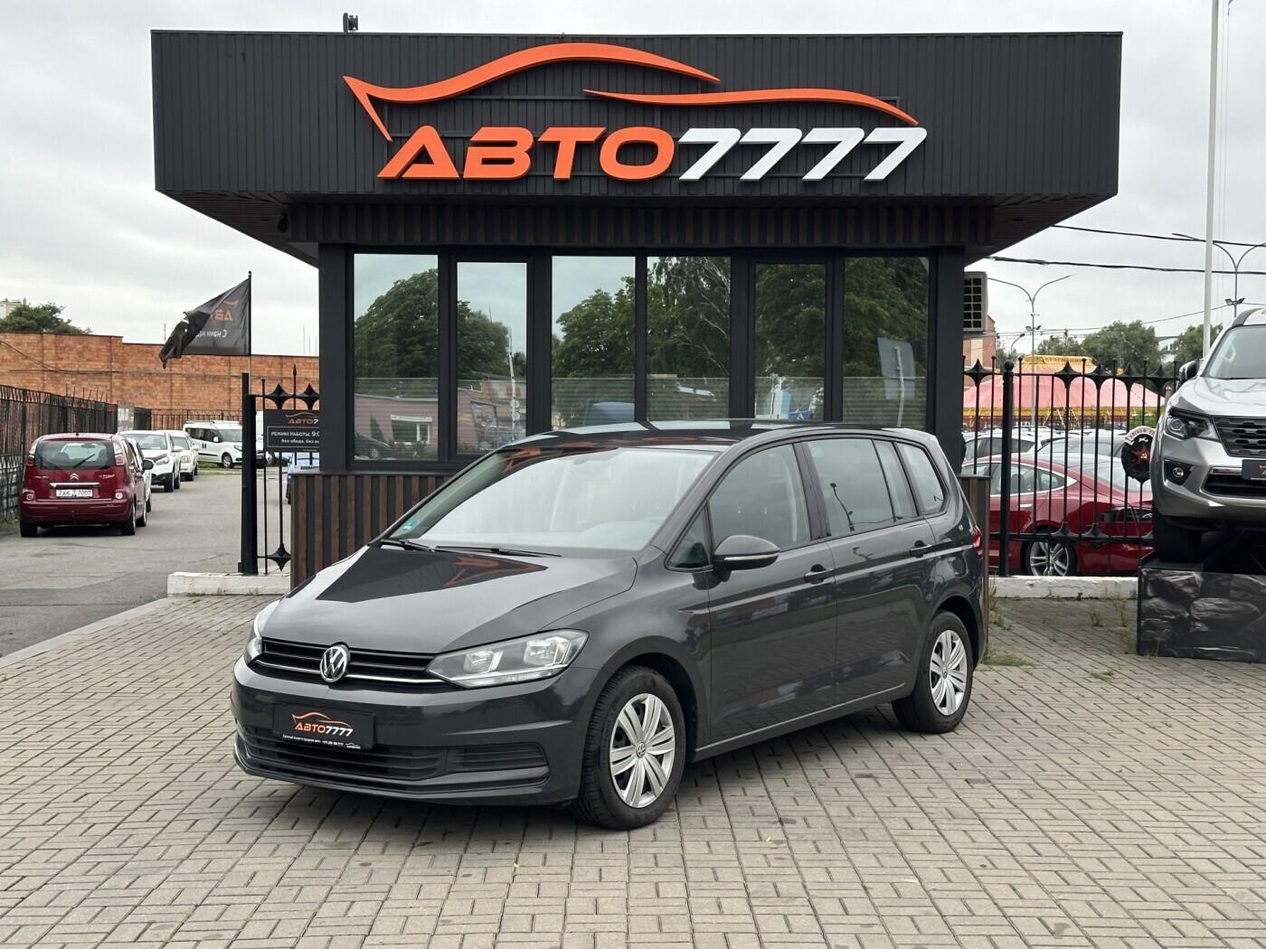Touran_2015: (227, 413, 996, 828)
